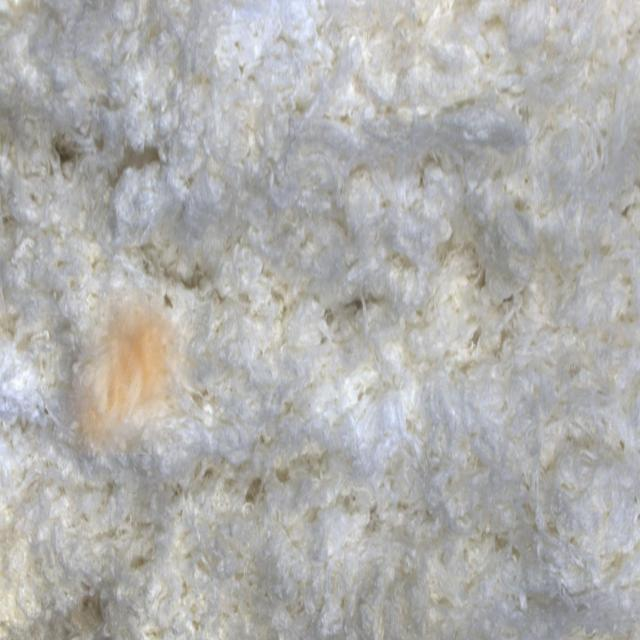dust: (60, 287, 198, 455)
